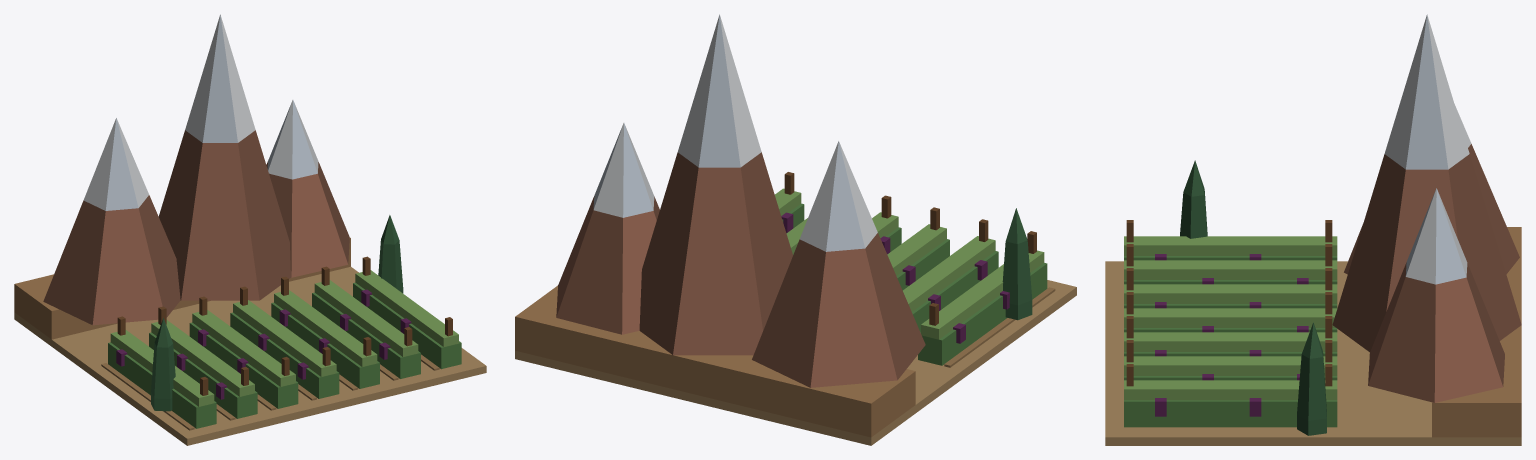
File: vignesMendoza.glb
The picture shows the model from 3 angles, left to right: view 1: azimuth 30°, elevation 25°; view 2: azimuth 150°, elevation 25°; view 3: azimuth 270°, elevation 25°; orthographic projection. The views are drawn at different scales.
Visible parts, largest first — view 1: vignesMendoza; view 2: vignesMendoza; view 3: vignesMendoza.
Part boxes in pixels (box(x1,y1,x2,y2)): vignesMendoza: box(14, 14, 486, 445); vignesMendoza: box(515, 14, 1076, 445); vignesMendoza: box(1105, 14, 1521, 445).
Size of the model in its own units: 1.77 by 1.65 by 1.76.
